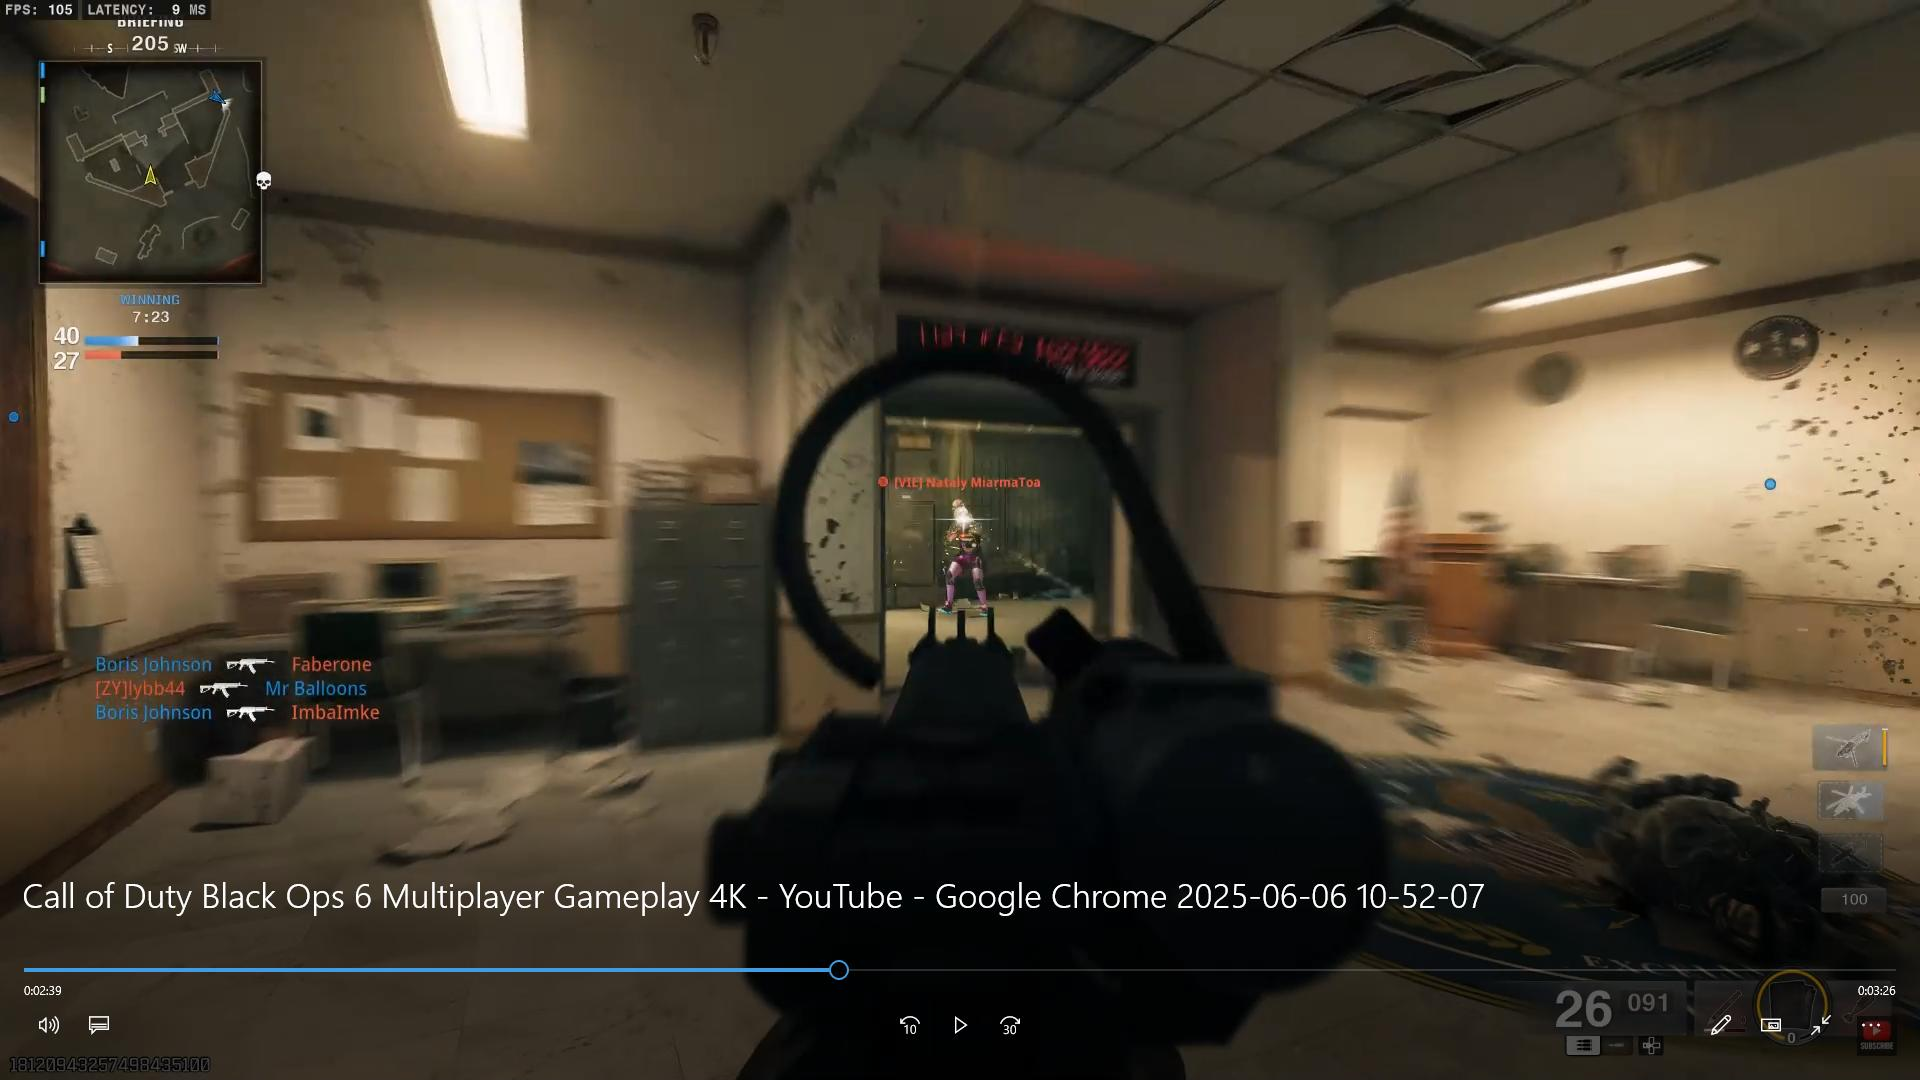Enemy: (890, 460, 1040, 622)
